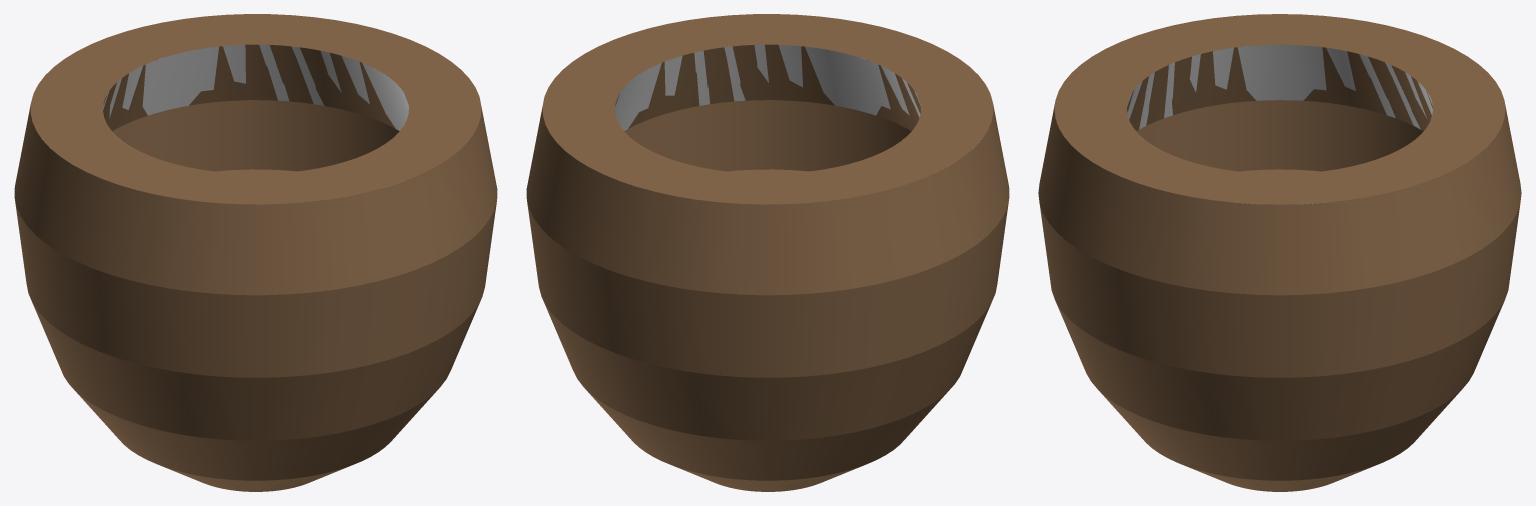
3 renders of one model, left to right at view 1: azimuth 30°, elevation 25°; view 2: azimuth 150°, elevation 25°; view 3: azimuth 270°, elevation 25°, orthographic.
Visible parts, largest first — view 1: brown_shell, pale_interior; view 2: brown_shell, pale_interior; view 3: brown_shell, pale_interior.
Part boxes in pixels (left/top/right/bottom): brown_shell: left=14, top=14, right=497, bottom=491; pale_interior: left=44, top=44, right=408, bottom=204; brown_shell: left=526, top=14, right=1009, bottom=491; pale_interior: left=615, top=44, right=979, bottom=204; brown_shell: left=1038, top=14, right=1521, bottom=491; pale_interior: left=1127, top=44, right=1432, bottom=204.
Bounding box in the file's own units: 0.12 × 0.1 × 0.12.
